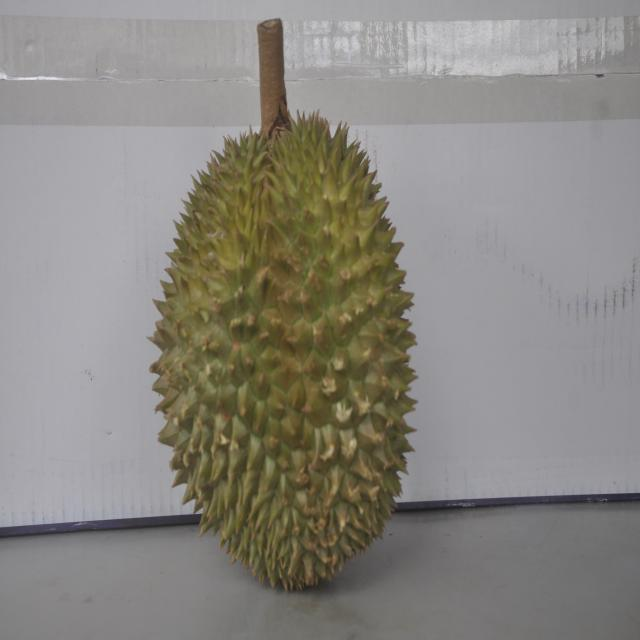mature: (147, 101, 413, 590)
